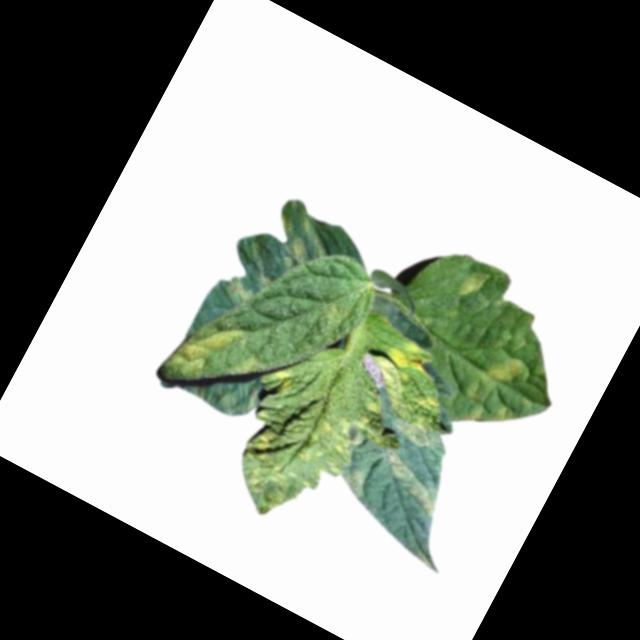Leaf_Mold: (211, 380, 365, 539), (160, 301, 250, 397), (456, 344, 540, 437), (259, 195, 344, 281), (368, 447, 453, 519), (375, 329, 442, 386), (382, 408, 450, 460), (452, 263, 490, 307), (214, 272, 256, 309), (333, 467, 369, 504), (264, 364, 296, 397)
